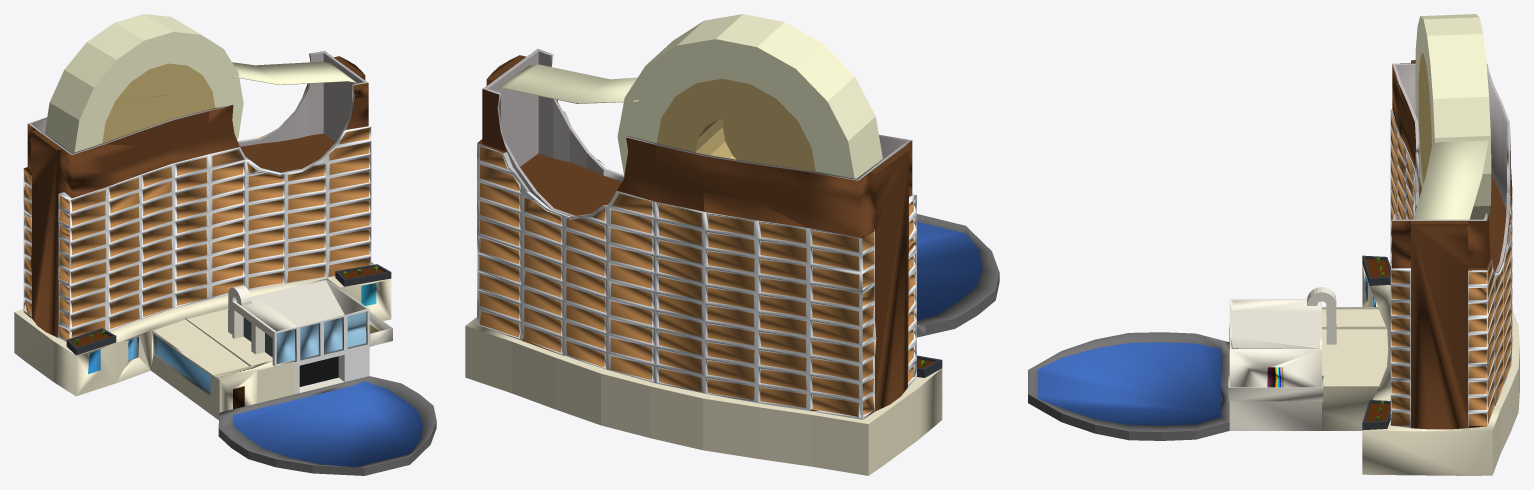
The model's file is Tape_Building.glb.
3 renders of one model, left to right at view 1: azimuth 30°, elevation 25°; view 2: azimuth 150°, elevation 25°; view 3: azimuth 270°, elevation 25°, orthographic. The views are drawn at different scales.
Visible parts, largest first — view 1: tape building; view 2: tape building; view 3: tape building.
Boxes of the visible parts, box(x1,y1,x2,y2) form: tape building: box(14, 14, 436, 475); tape building: box(465, 14, 999, 475); tape building: box(1028, 14, 1519, 475).
Bounding box in the file's own units: 2.84 × 2.65 × 3.48.
1 material, 1 textured.
